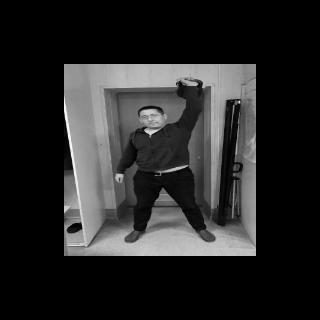kettlebell: (173, 78, 205, 99)
